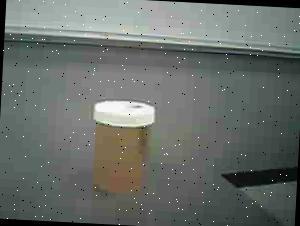Bottle B: (79, 90, 163, 204)
